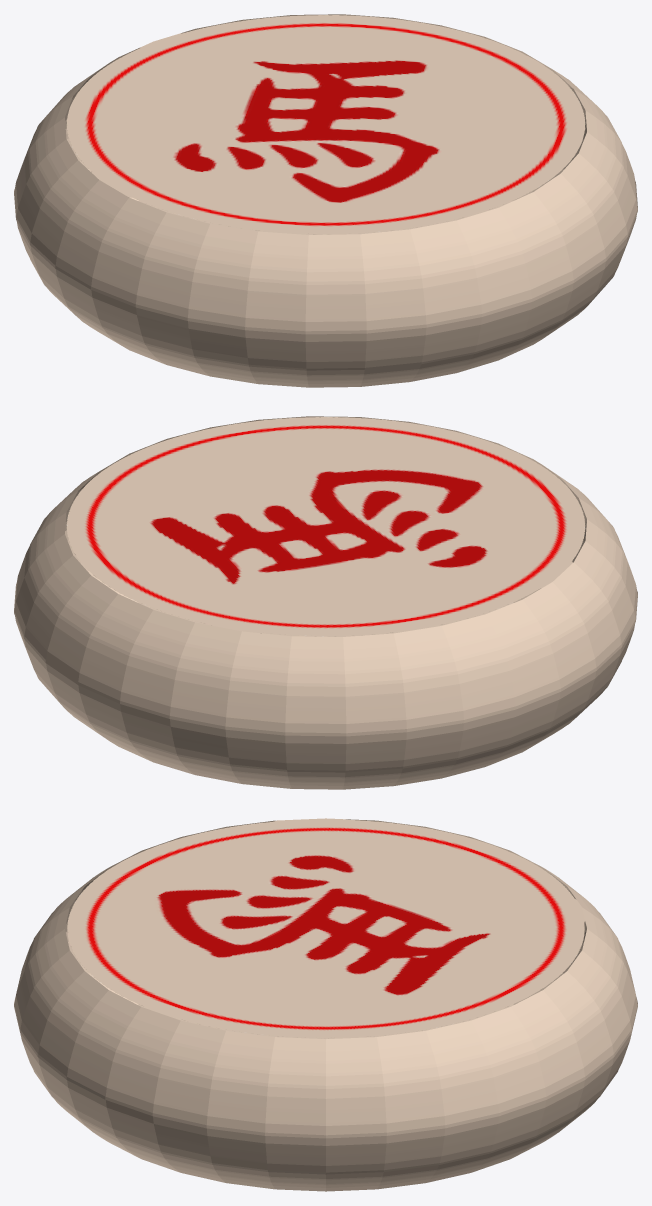
The model's file is red_knight.fbx.
3 renders of one model, top to bottom at view 1: azimuth 30°, elevation 25°; view 2: azimuth 150°, elevation 25°; view 3: azimuth 270°, elevation 25°, orthographic.
Visible parts, largest first — view 1: Red Knight; view 2: Red Knight; view 3: Red Knight.
Boxes of the visible parts, bbox=[...] form: Red Knight: bbox=[14, 14, 637, 387]; Red Knight: bbox=[14, 416, 637, 789]; Red Knight: bbox=[14, 818, 637, 1191].
Bounding box in the file's own units: 245 × 66.11 × 245.
2 materials, 1 textured.
